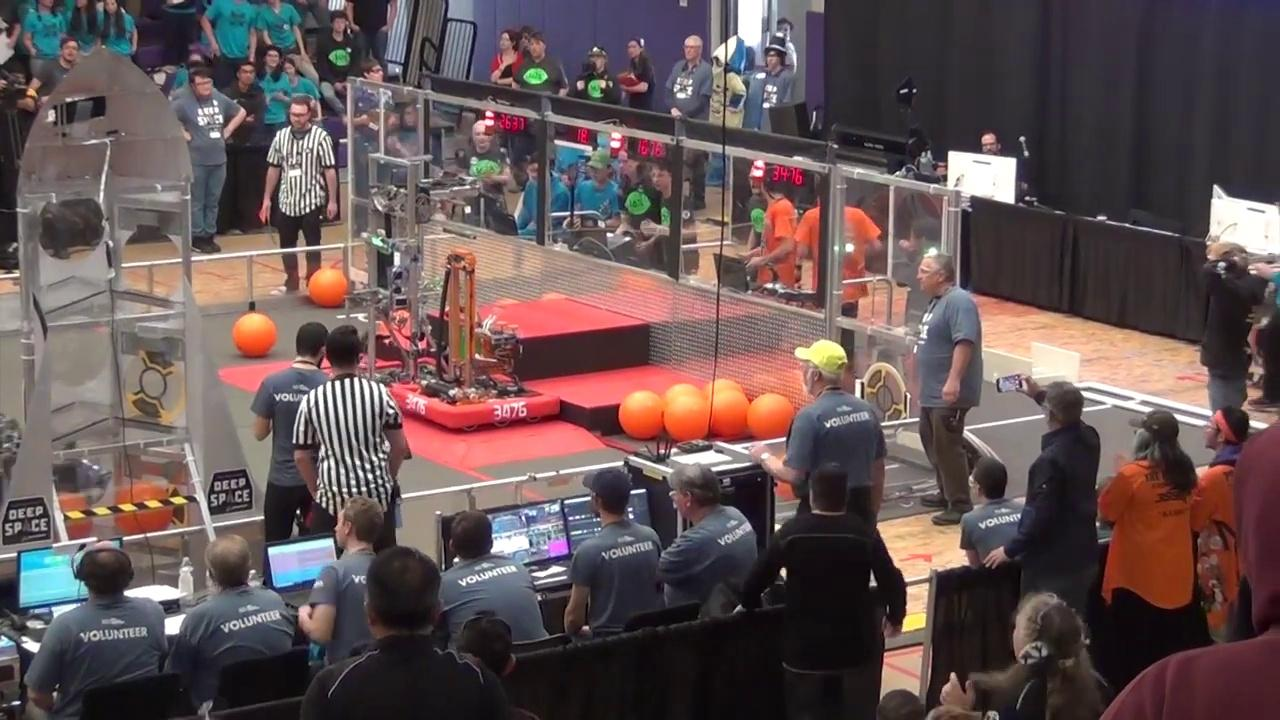robot: (389, 246, 565, 433)
